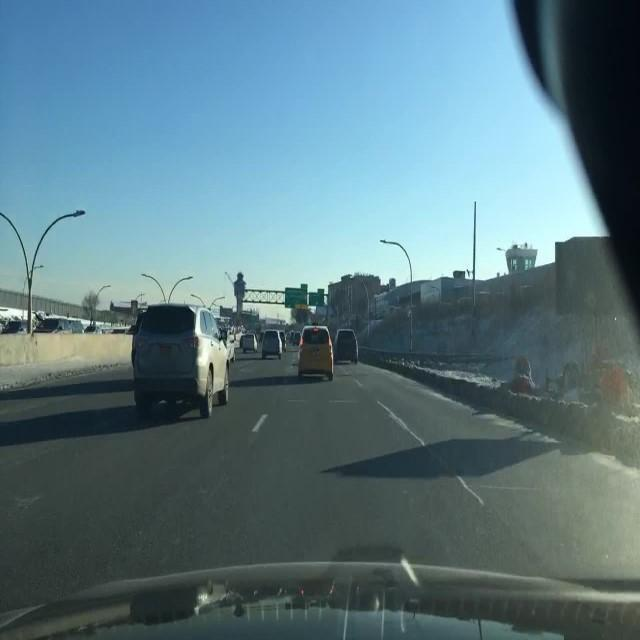normal: (129, 302, 232, 417), (282, 314, 380, 393)
